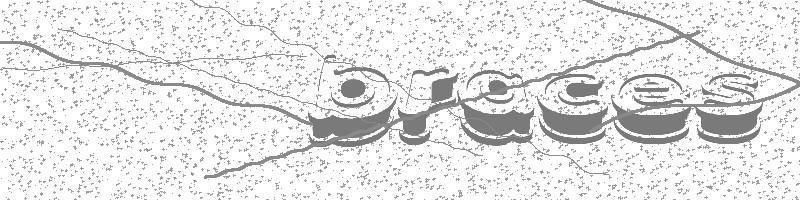a: (459, 66, 537, 141)
b: (307, 48, 394, 147)
c: (538, 65, 611, 145)
e: (608, 69, 691, 146)
r: (398, 59, 462, 149)
s: (694, 66, 765, 148)
